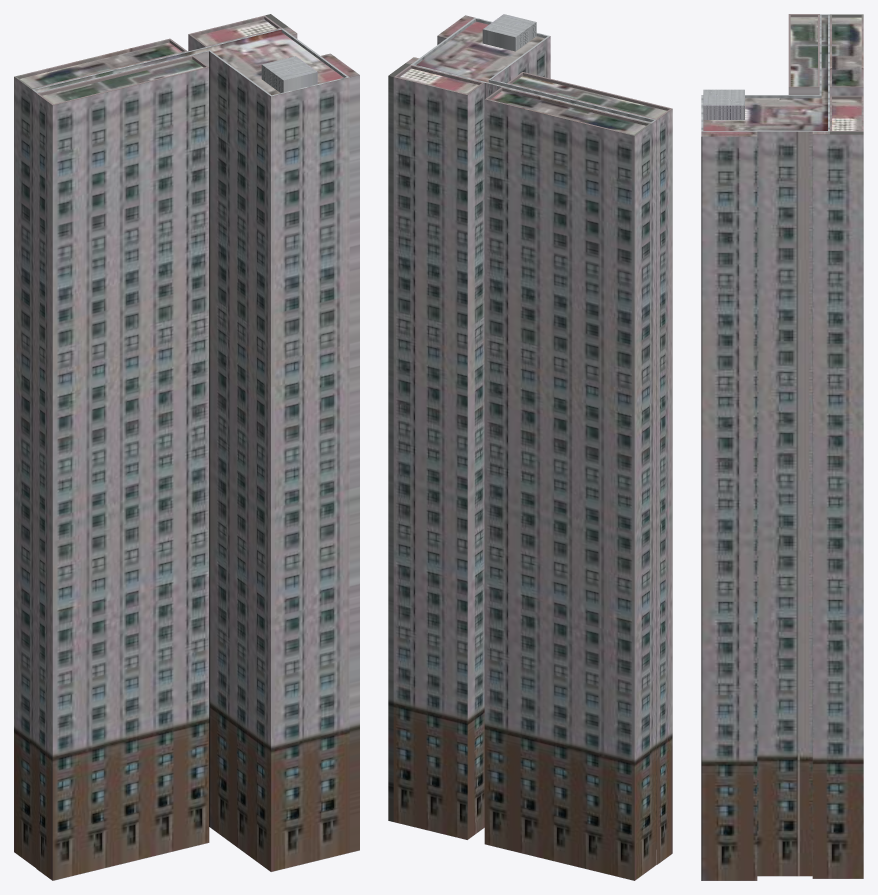
The picture shows the model from 3 angles, left to right: view 1: azimuth 30°, elevation 25°; view 2: azimuth 150°, elevation 25°; view 3: azimuth 270°, elevation 25°; orthographic projection. The views are drawn at different scales.
Visible parts, largest first — view 1: HN451_Vinhomes_D_capitale_3; view 2: HN451_Vinhomes_D_capitale_3; view 3: HN451_Vinhomes_D_capitale_3.
Part boxes in pixels (<box>): HN451_Vinhomes_D_capitale_3: <box>14,14,359,880</box>; HN451_Vinhomes_D_capitale_3: <box>388,14,672,880</box>; HN451_Vinhomes_D_capitale_3: <box>701,14,863,880</box>.
Size of the model in its own units: 54.77 by 158 by 30.71.
1 material, 1 textured.
